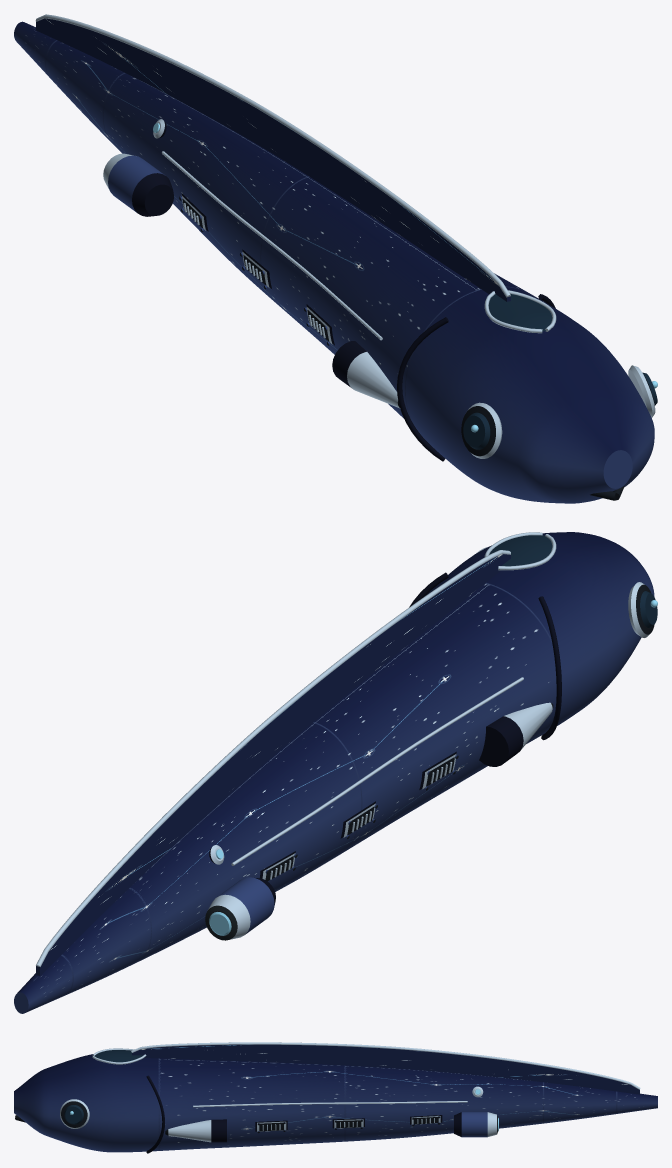
3 views of the same model, one above another, from view 1: azimuth 30°, elevation 25°; view 2: azimuth 150°, elevation 25°; view 3: azimuth 270°, elevation 25° (orthographic). The views are drawn at different scales.
Parts seen in each view (by area): view 1: moray_hull; view 2: moray_hull; view 3: moray_hull.
Boxes of the visible parts, left/top/right/bottom form: moray_hull: left=14, top=14, right=657, bottom=503; moray_hull: left=14, top=532, right=657, bottom=1013; moray_hull: left=14, top=1042, right=657, bottom=1153.
Size of the model in its own units: 10.79 by 10.8 by 60.
1 material, 1 textured.
